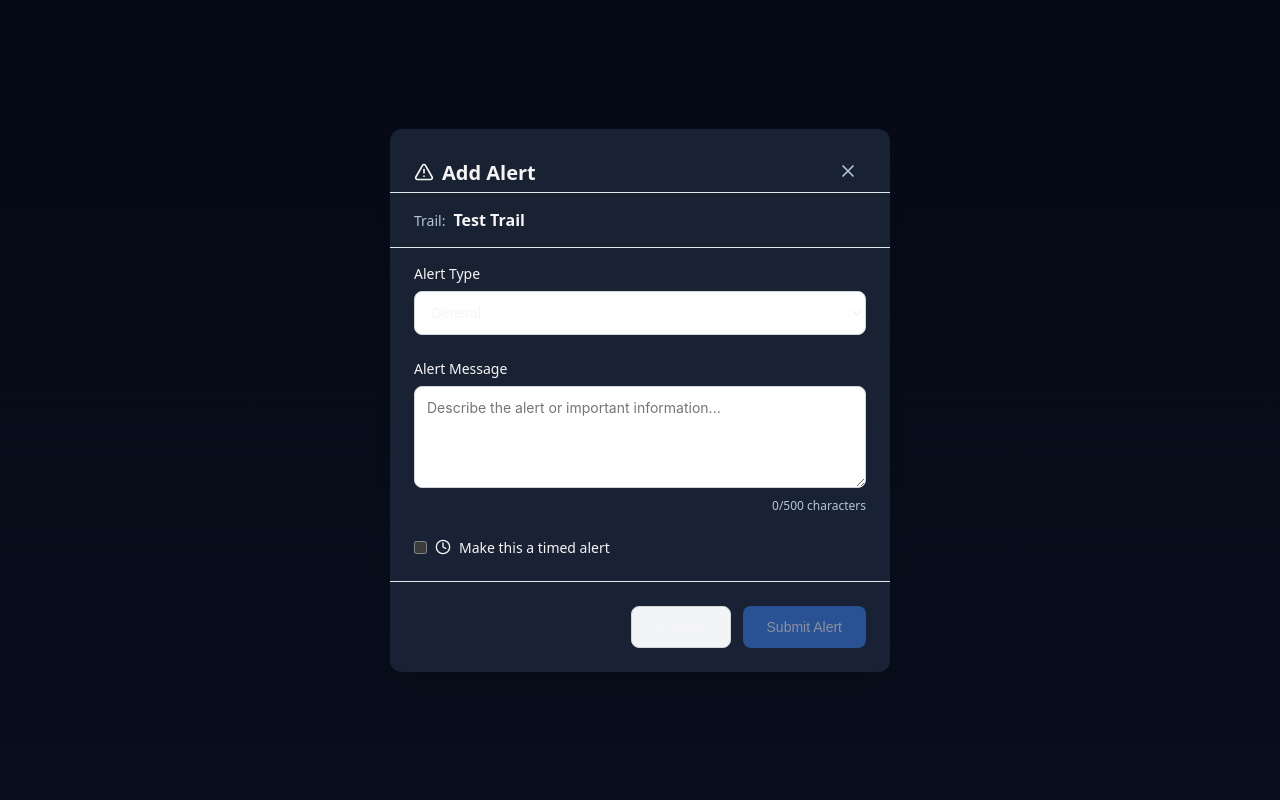
Test: AlertModal › Form Interactions › shows duration input when timed alert is enabled
Click the checkbox labelled "Make this a timed alert": [420, 547] box [414,540,427,554]
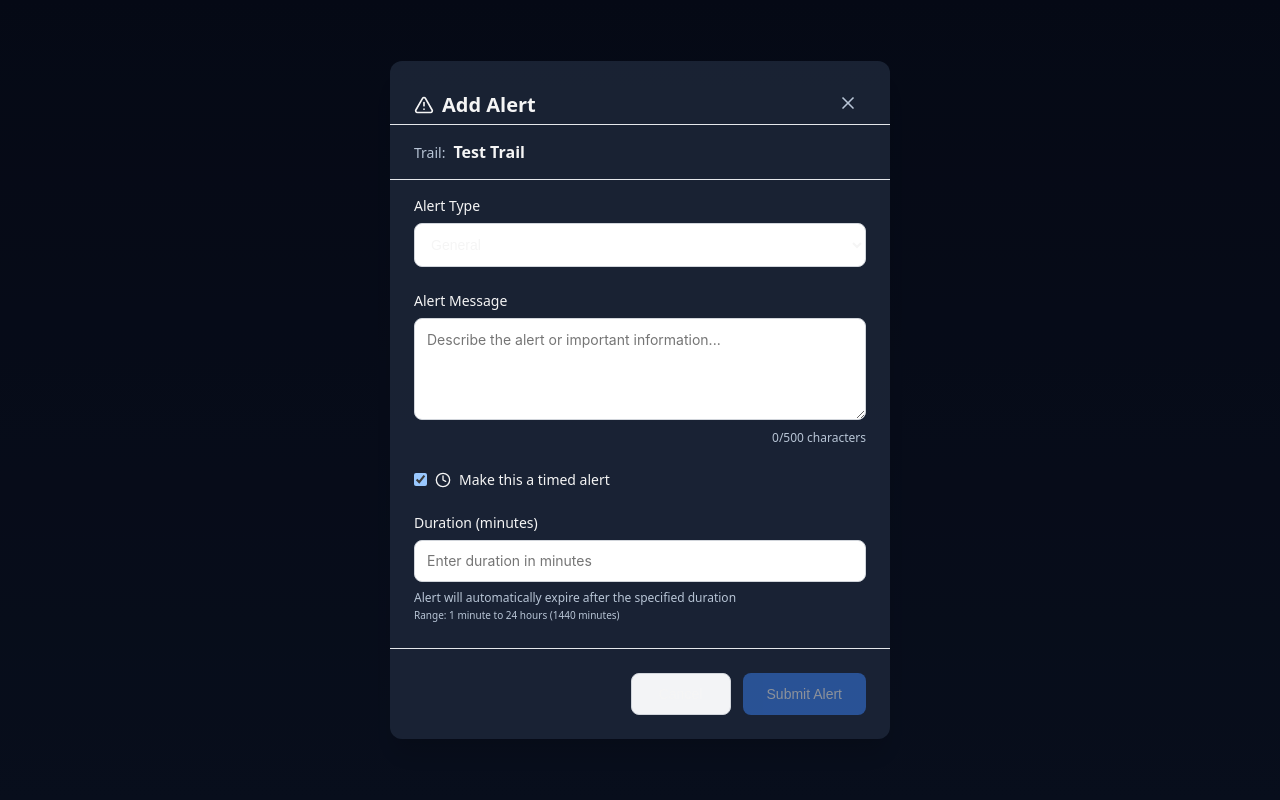
expect the number field labelled "Duration (minutes)" is shown: met, box [414,540,866,582]
expect the text "Alert will automatically expire after the specified duration" is shown: met, box [414,589,736,606]
